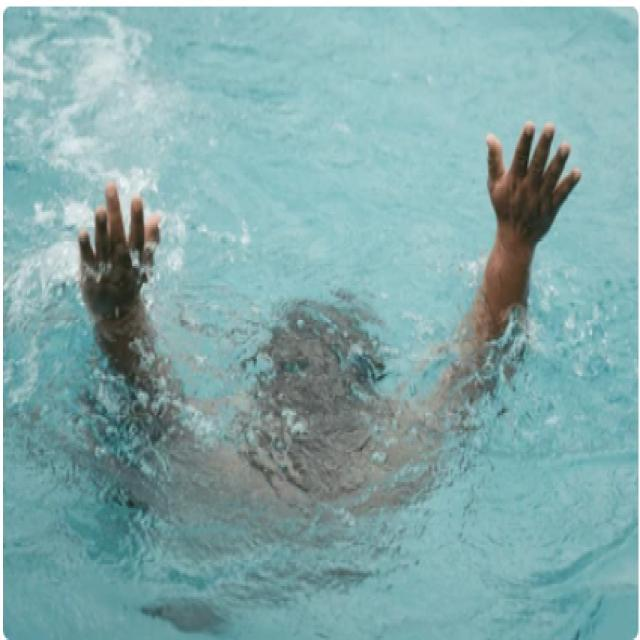Out of Water: (74, 116, 583, 442)
